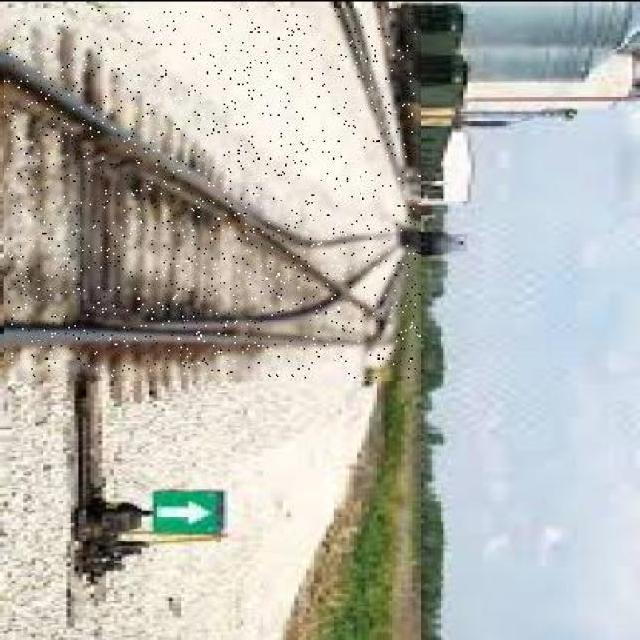rail: (6, 9, 419, 377)
